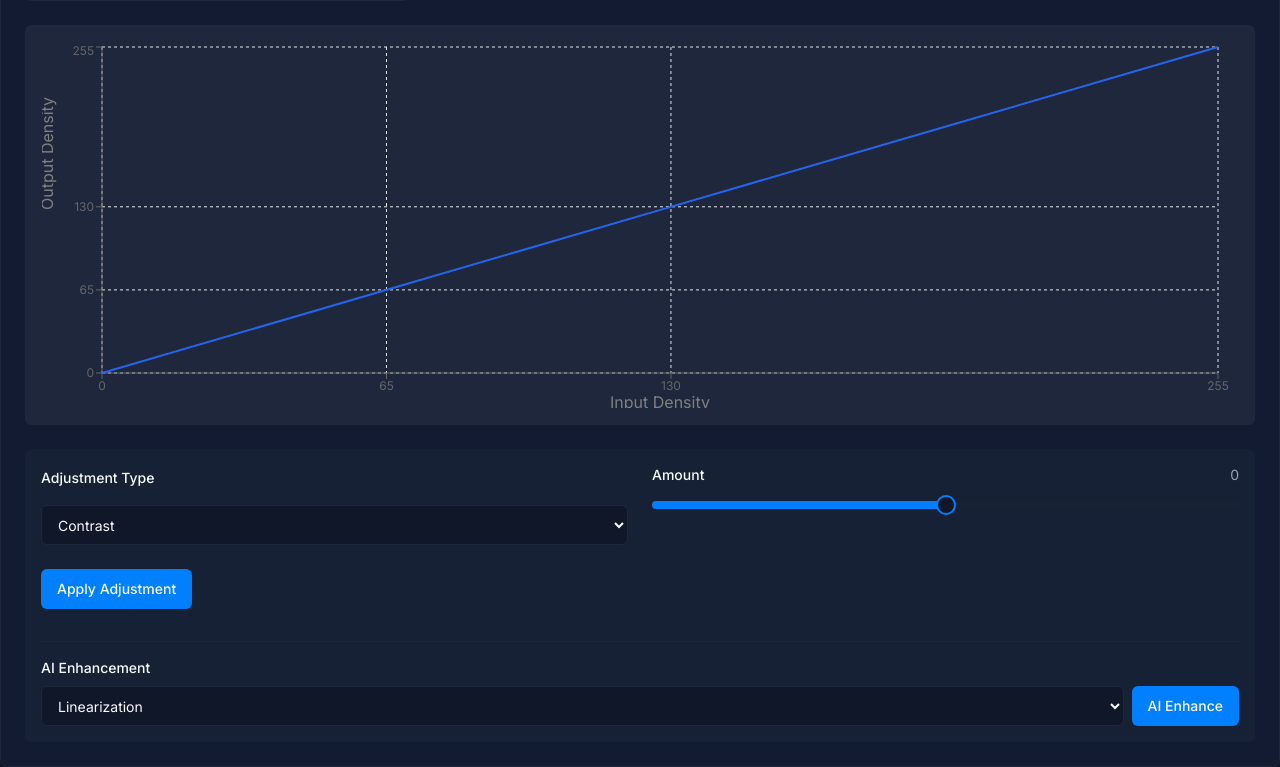
Test: CurveEditor › hides results panel when Dismiss is clicked
(page scrolled)
Click the button with test id "ai-enhance-btn". click: (1185, 706)
box: [1132,686,1239,726]
(page scrolled)
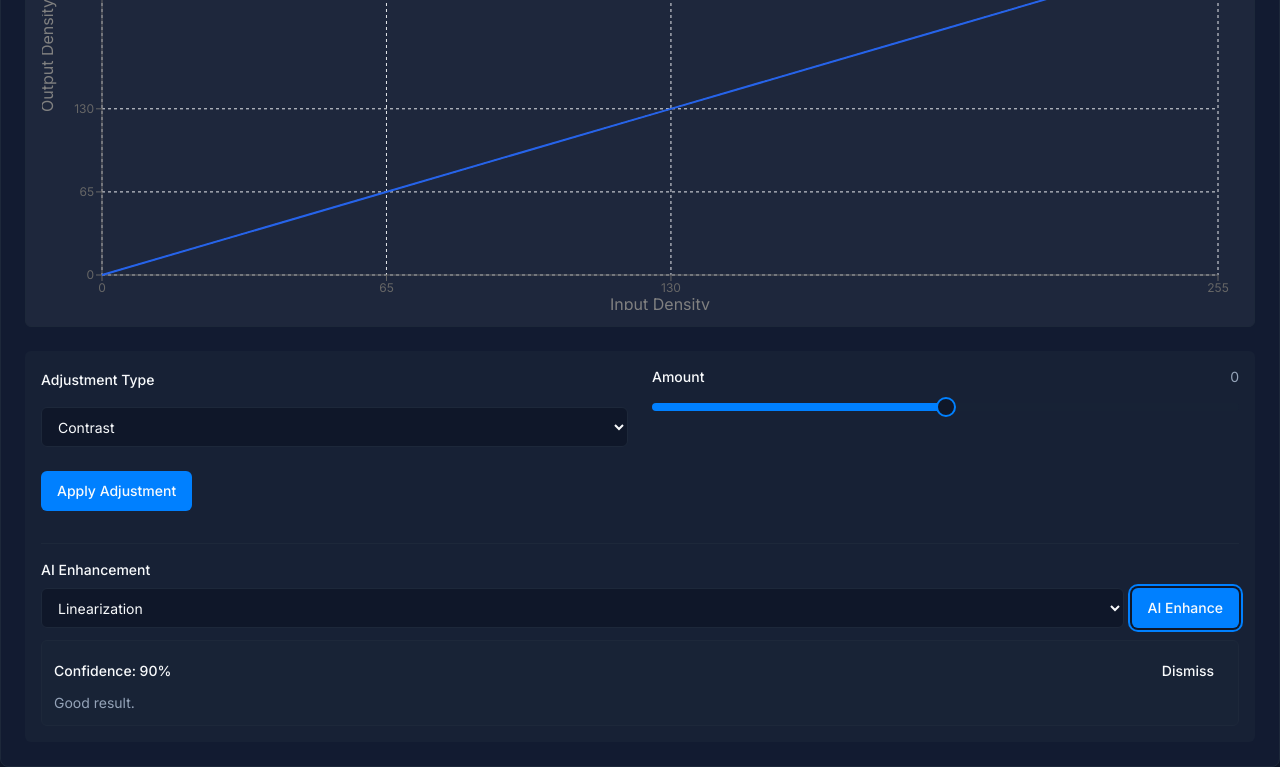
Check: the message "Confidence: 90% Dismiss Good result." is shown, box [41,640,1239,726]
Click the button with test id "enhance-dismiss-btn". click: (1188, 671)
box: [1150,653,1226,689]
(page scrolled)
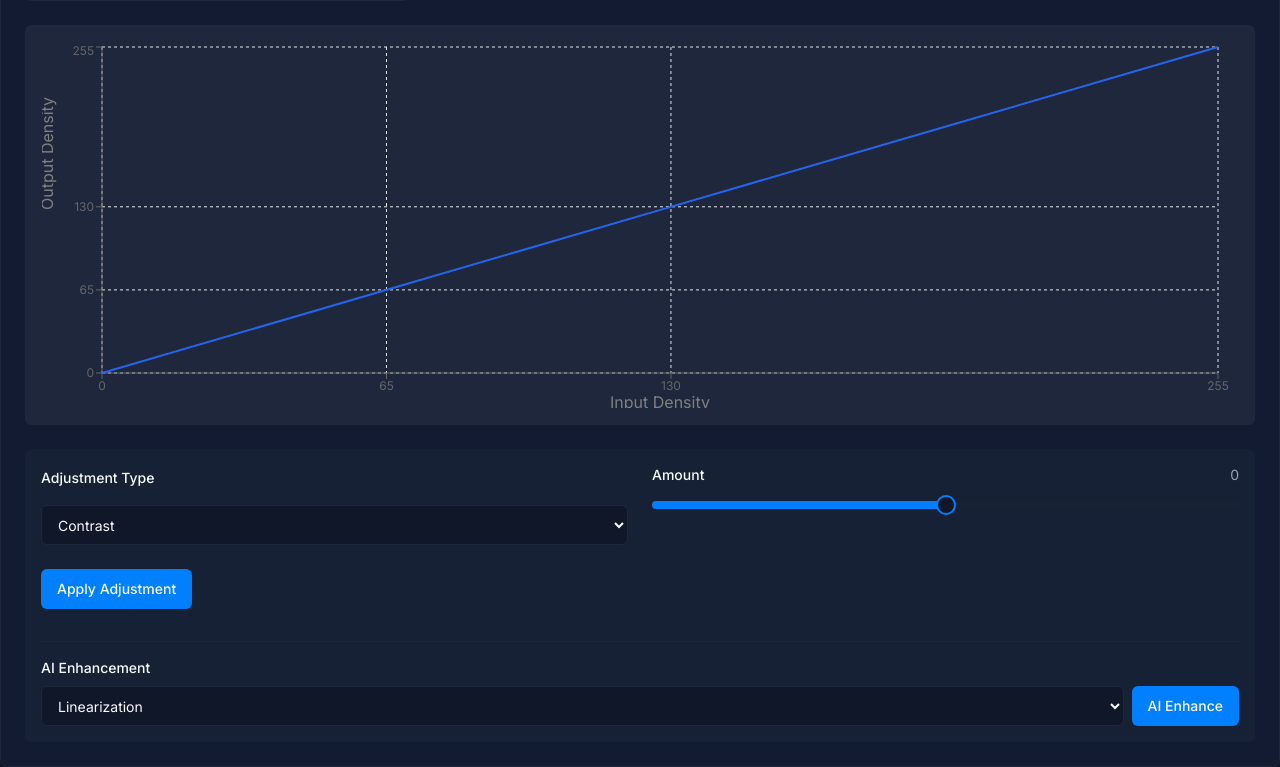
Check: the message with test id "enhance-result" is gone
